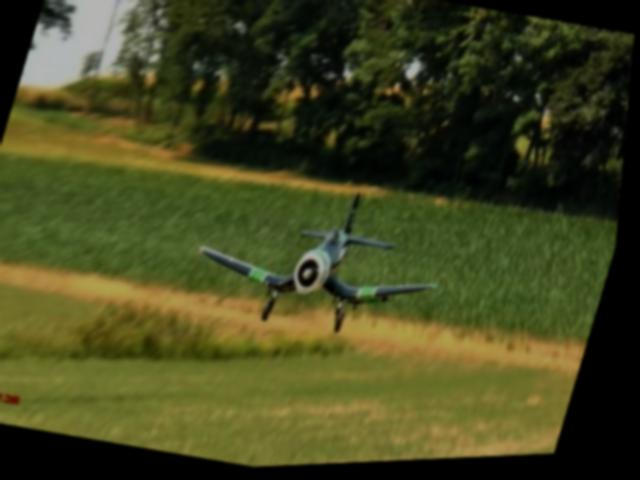uav: (181, 157, 472, 367)
